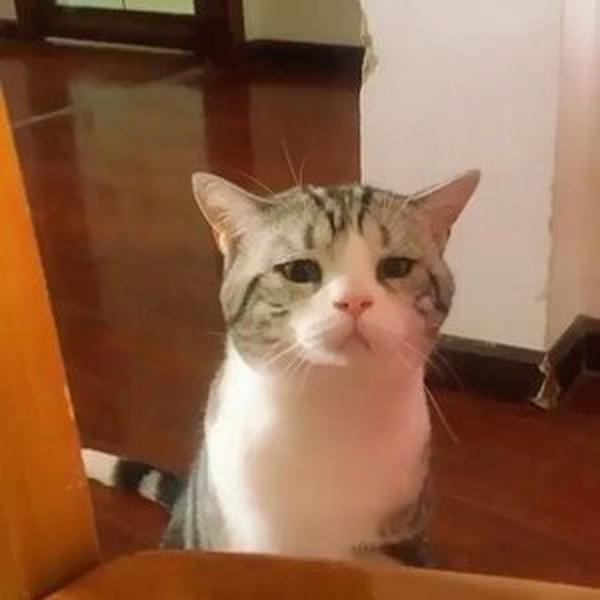michi: (165, 154, 490, 574)
